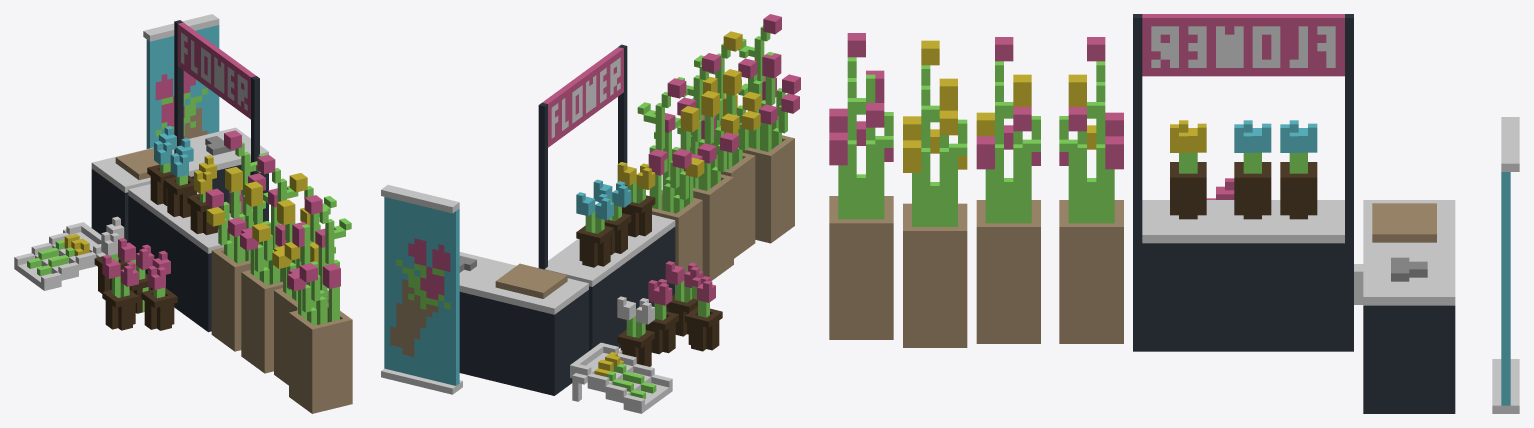
File: shop-4.obj
3 renders of one model, left to right at view 1: azimuth 30°, elevation 25°; view 2: azimuth 150°, elevation 25°; view 3: azimuth 270°, elevation 25°, orthographic. The views are drawn at different scales.
Size of the model in its own units: 3.9 by 4 by 7.5.
1 material, 1 textured.
